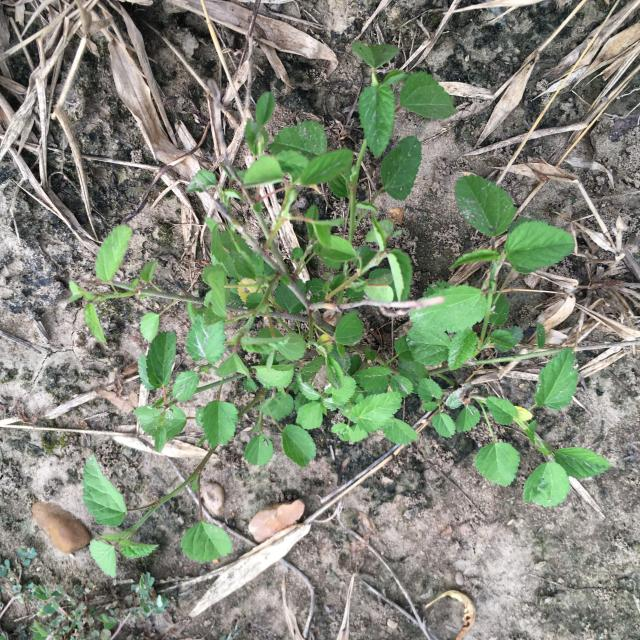PricklySida: (67, 41, 613, 580)
